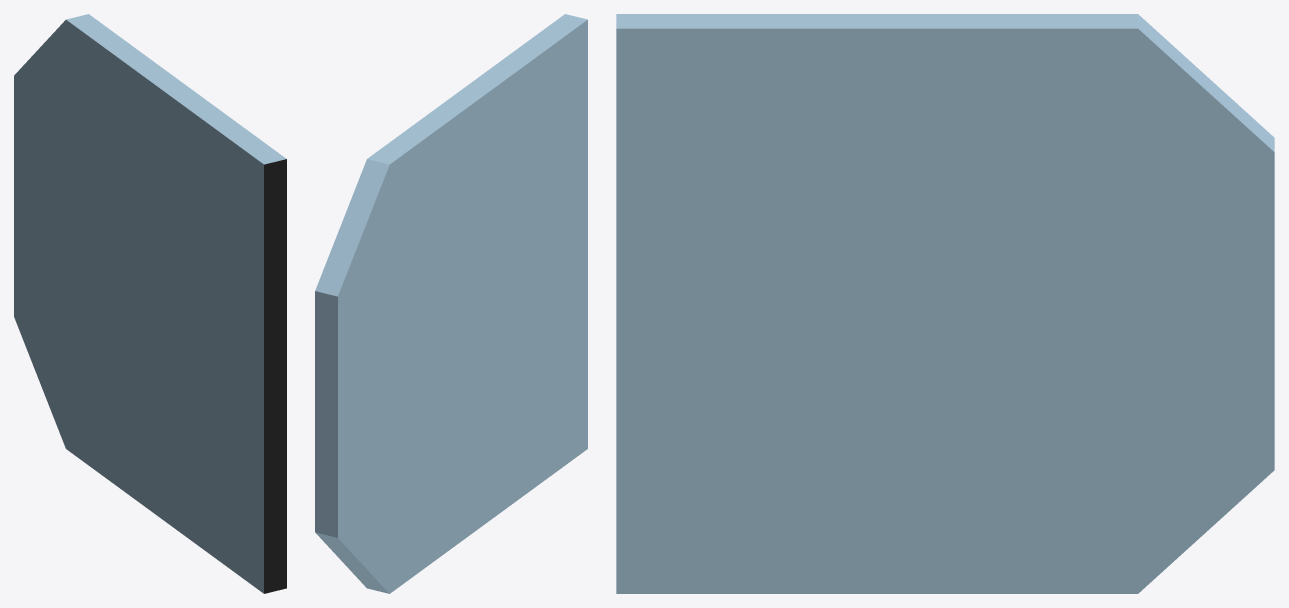
Rendered from Wall_01.fbx.
The picture shows the model from 3 angles, left to right: view 1: azimuth 30°, elevation 25°; view 2: azimuth 150°, elevation 25°; view 3: azimuth 270°, elevation 25°; orthographic projection. The views are drawn at different scales.
Visible parts, largest first — view 1: Wall_01; view 2: Wall_01; view 3: Wall_01.
Boxes of the visible parts, bbox=[...] form: Wall_01: bbox=[14, 14, 286, 593]; Wall_01: bbox=[315, 14, 587, 593]; Wall_01: bbox=[616, 14, 1274, 593].
Size of the model in its own units: 0.2 by 3.6 by 3.8.
